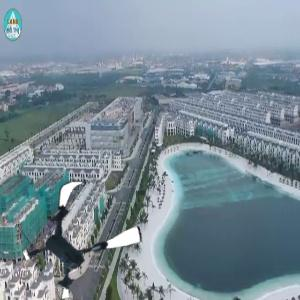drone: (23, 181, 142, 300)
